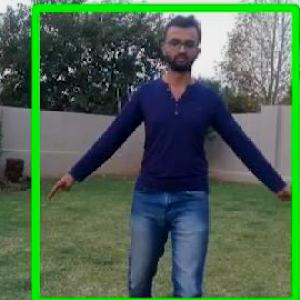land: (29, 10, 299, 299)
